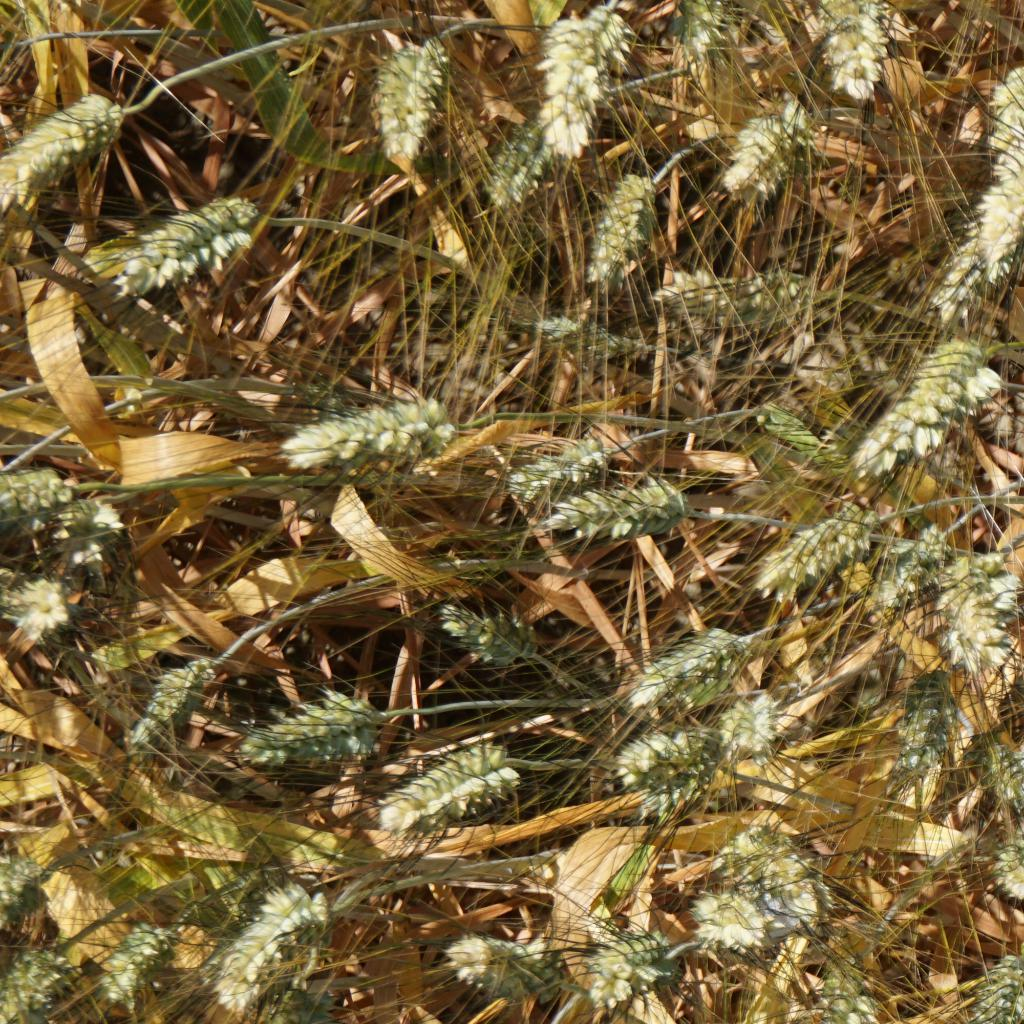0-0: (349, 735, 531, 824), (111, 197, 259, 285), (207, 890, 327, 988), (275, 408, 470, 467), (3, 95, 128, 187), (533, 9, 608, 159), (623, 611, 751, 694), (241, 691, 385, 764), (547, 476, 692, 546), (429, 934, 560, 1009), (664, 259, 810, 324), (928, 556, 1008, 668), (912, 331, 985, 452), (612, 719, 719, 799), (375, 38, 439, 169), (583, 163, 649, 290), (817, 0, 899, 100), (694, 877, 784, 968), (762, 507, 863, 587), (972, 122, 1024, 274), (722, 105, 797, 207), (451, 603, 544, 678), (540, 308, 654, 368), (92, 921, 169, 1007), (124, 652, 197, 735), (595, 930, 674, 1005), (896, 684, 954, 773), (866, 523, 928, 605), (756, 854, 823, 928), (516, 436, 610, 487), (0, 577, 68, 647), (716, 684, 789, 749), (0, 957, 69, 1024), (802, 958, 868, 1024), (0, 837, 55, 916), (678, 0, 748, 62), (711, 819, 783, 879), (859, 402, 917, 476), (62, 495, 123, 564), (968, 735, 1024, 809), (984, 54, 1024, 146), (480, 124, 531, 195), (0, 477, 78, 523), (938, 240, 981, 320), (985, 819, 1024, 900), (247, 1009, 335, 1024)
